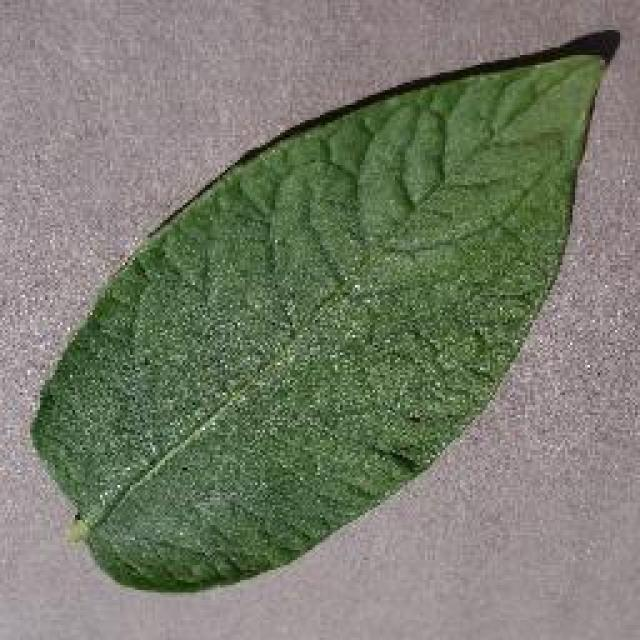healthy: (25, 25, 623, 597)
